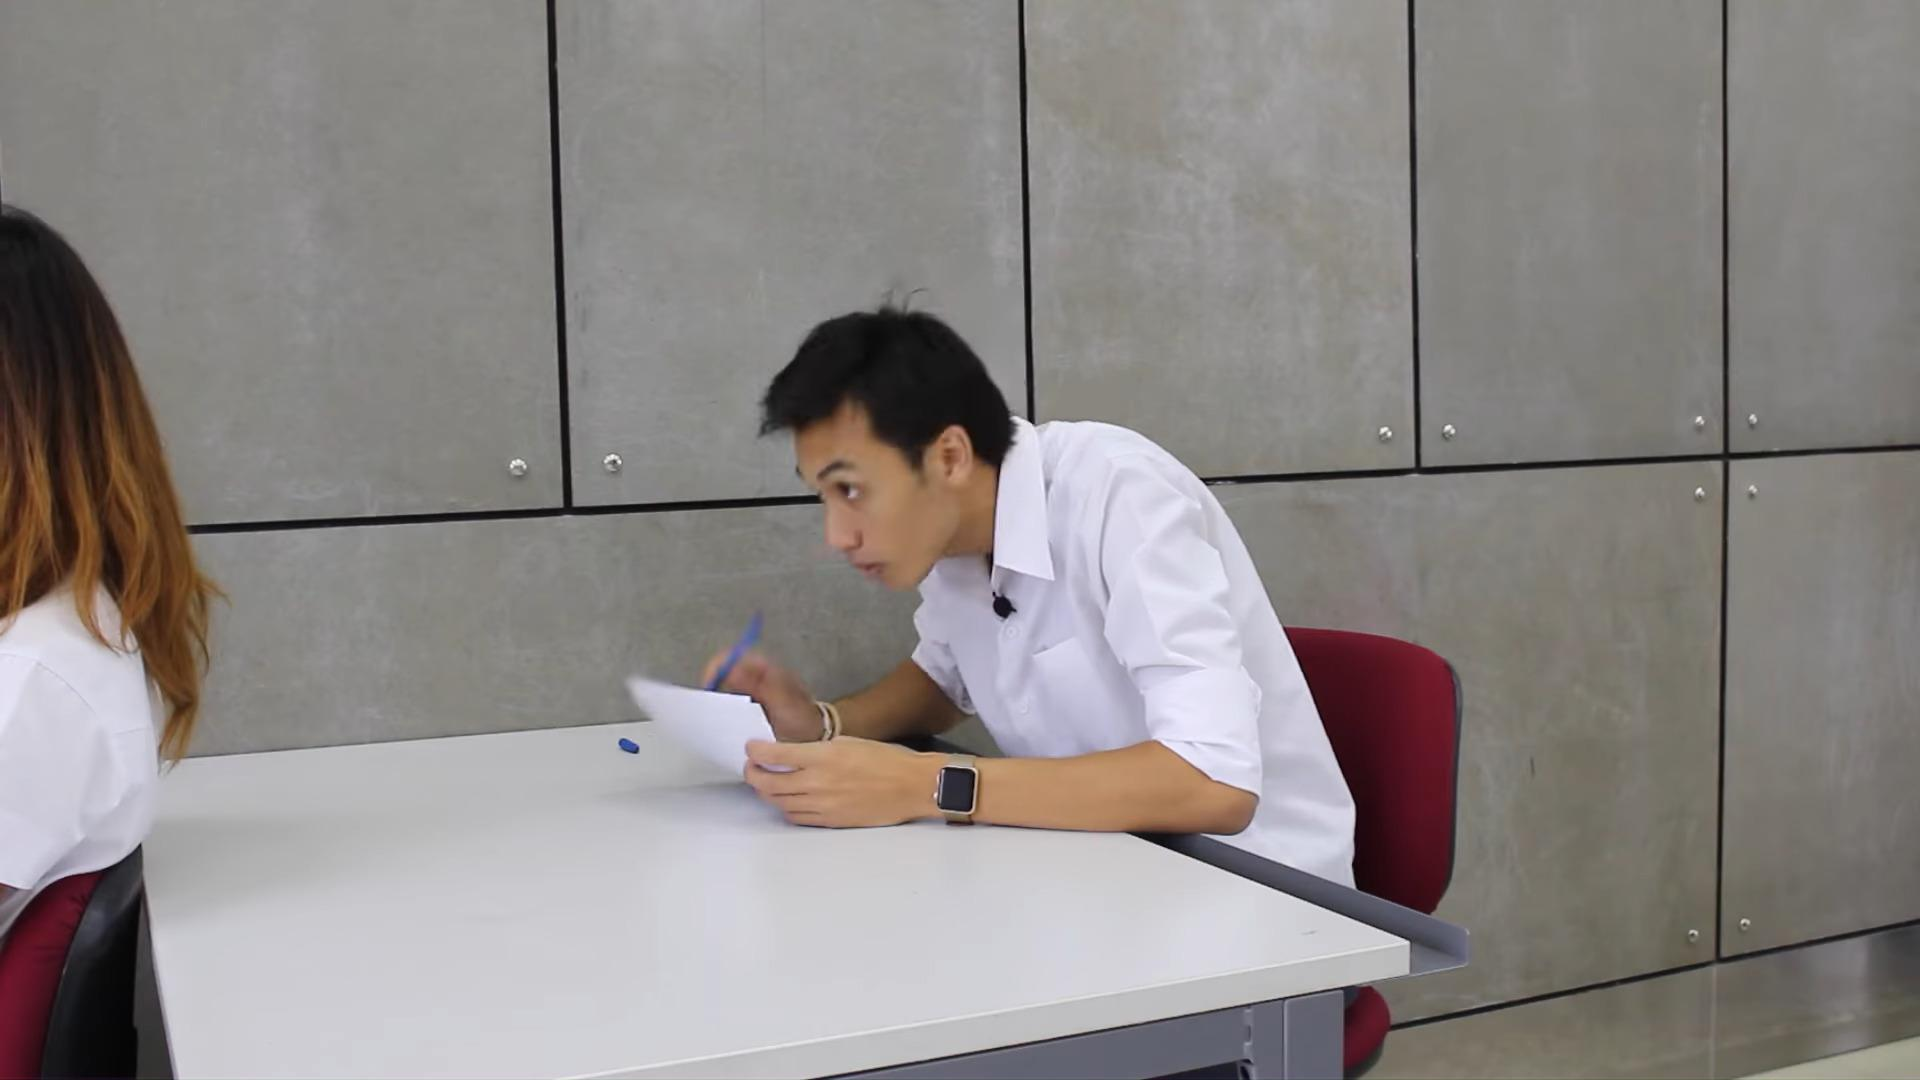cheating: (600, 273, 1411, 919)
